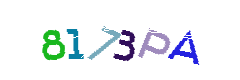1: (35, 0, 115, 80)
3: (86, 0, 166, 80)
7: (80, 0, 160, 80)
8: (13, 0, 93, 80)
A: (145, 0, 225, 80)
P: (92, 0, 172, 80)
